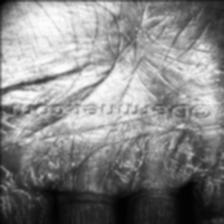Non-Cancerous Skin Condition: (0, 52, 59, 97), (181, 156, 224, 198), (0, 166, 19, 214)
